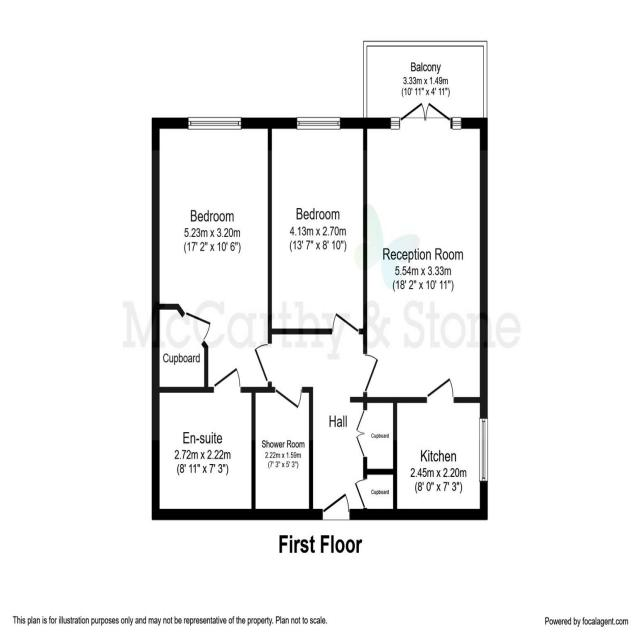DOOR: (322, 491, 351, 520), (212, 366, 242, 393), (253, 341, 272, 383), (426, 376, 455, 403), (363, 352, 380, 393), (331, 311, 360, 335), (274, 386, 303, 409)
DOUBLE DOOR: (399, 100, 452, 130)
ROOM: (363, 101, 488, 403), (151, 116, 273, 393), (267, 117, 368, 335), (392, 375, 488, 520)
WINDOW: (187, 116, 242, 131), (296, 116, 342, 131), (479, 417, 489, 482), (390, 117, 400, 130), (452, 117, 461, 130)
